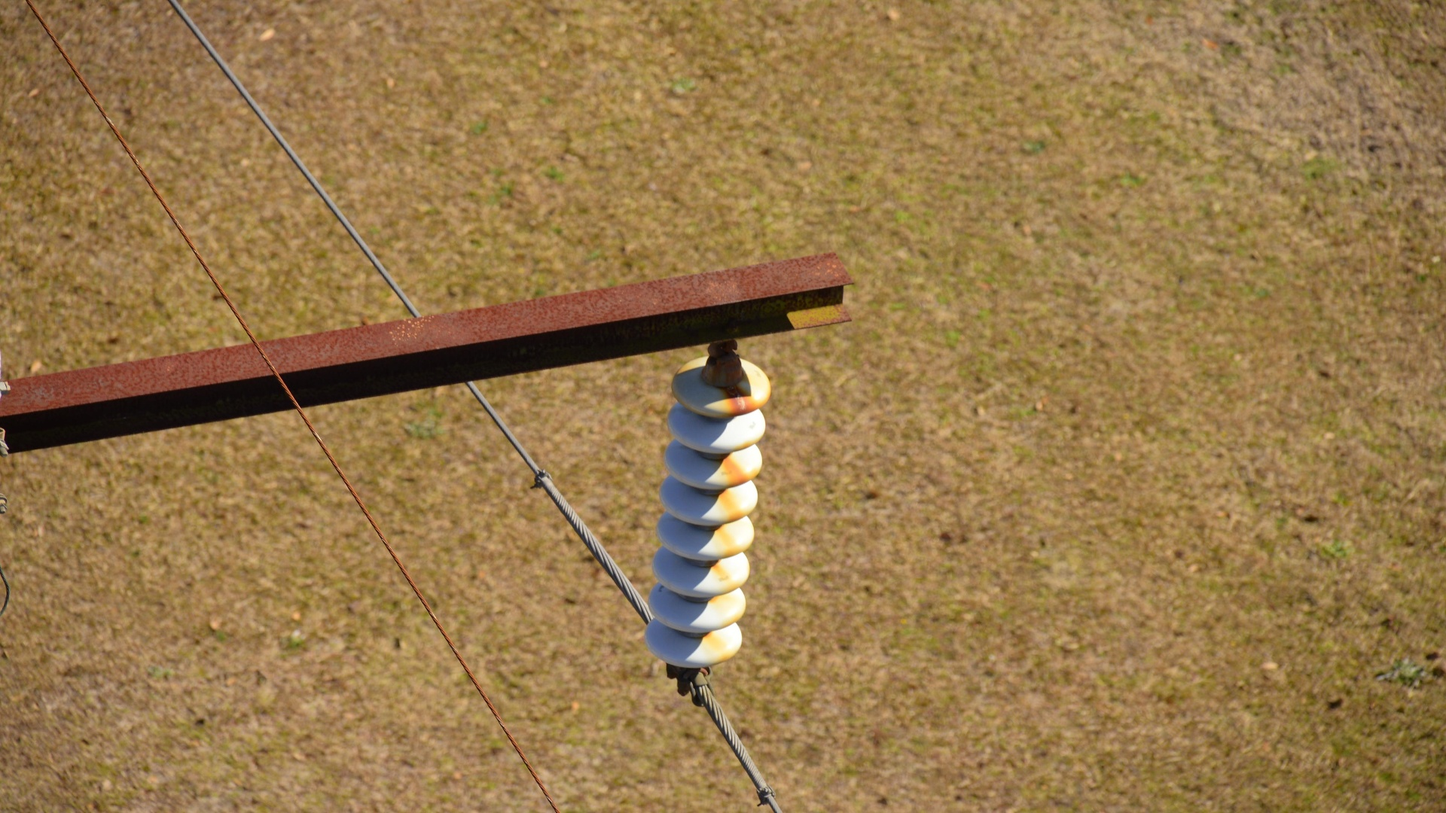insulator: (638, 355, 776, 676)
